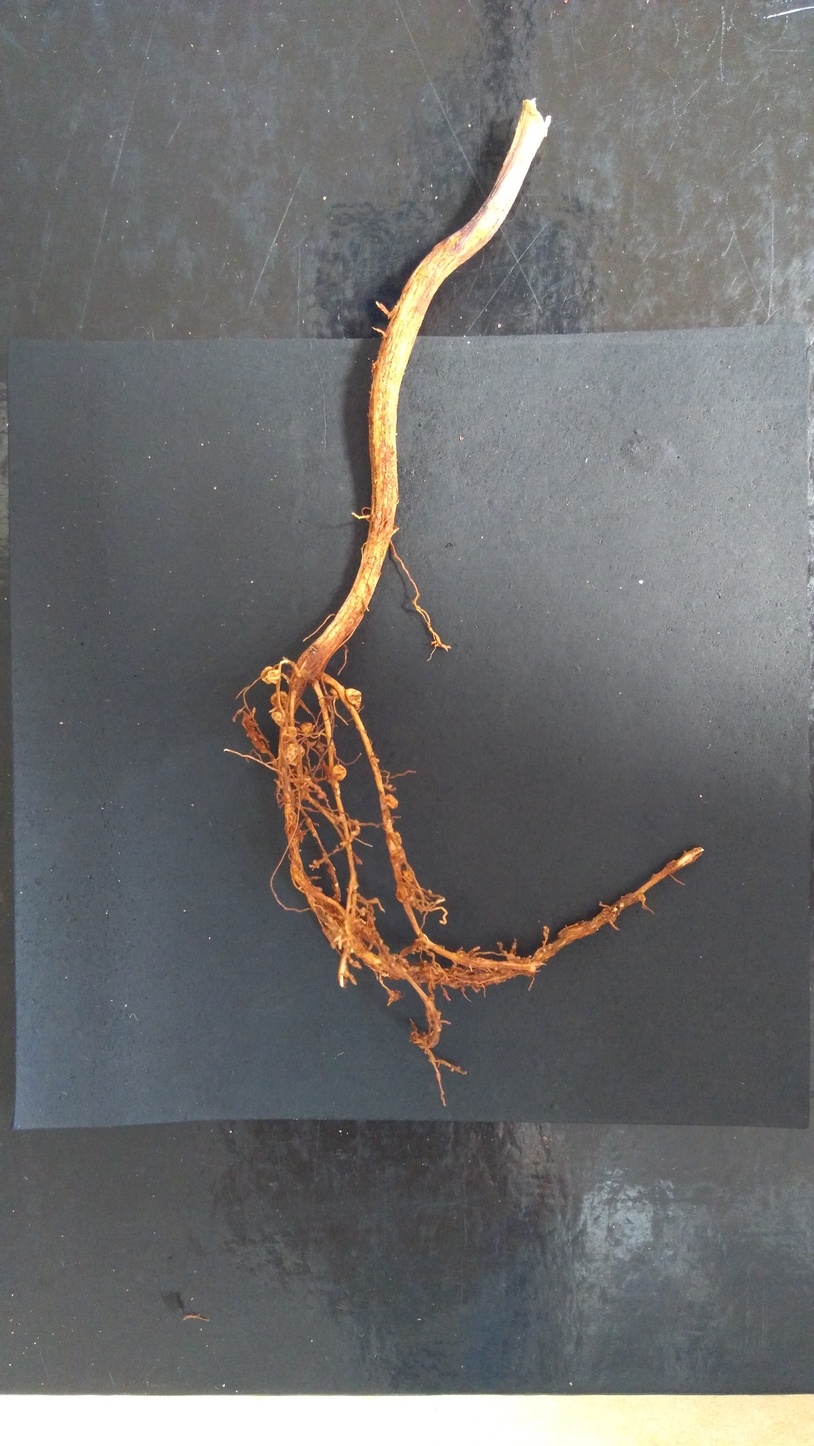nodule: (286, 742, 306, 766), (344, 686, 363, 710), (269, 689, 290, 710), (258, 664, 274, 686), (381, 792, 400, 810), (330, 763, 347, 782), (299, 721, 314, 738), (266, 668, 281, 685), (282, 725, 299, 739), (400, 868, 414, 884), (329, 686, 341, 701), (270, 711, 283, 722), (275, 716, 285, 728)
